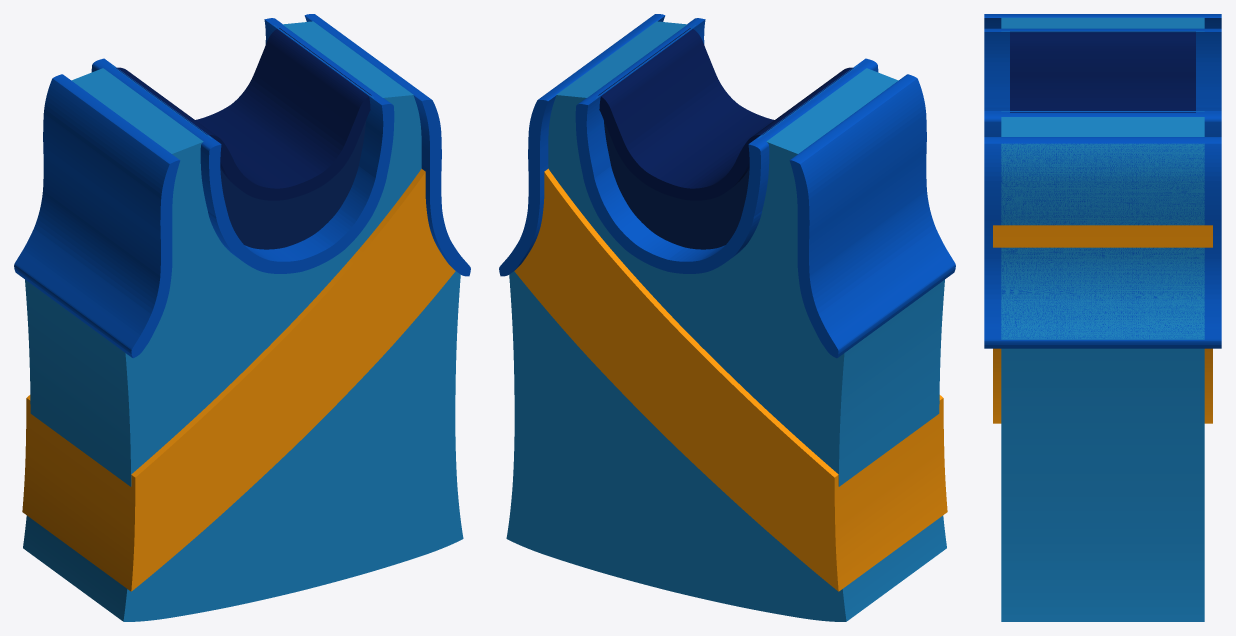
The picture shows the model from 3 angles, left to right: view 1: azimuth 30°, elevation 25°; view 2: azimuth 150°, elevation 25°; view 3: azimuth 270°, elevation 25°; orthographic projection.
Visible parts, largest first — view 1: U+1F3BD_layer02_obj00, U+1F3BD_layer03_obj00, U+1F3BD_layer04_obj02, U+1F3BD_layer01_obj00, U+1F3BD_layer04_obj00, U+1F3BD_layer00_obj00, U+1F3BD_layer04_obj01; view 2: U+1F3BD_layer02_obj00, U+1F3BD_layer03_obj00, U+1F3BD_layer04_obj02, U+1F3BD_layer01_obj00, U+1F3BD_layer04_obj00, U+1F3BD_layer00_obj00, U+1F3BD_layer04_obj01; view 3: U+1F3BD_layer02_obj00, U+1F3BD_layer04_obj01, U+1F3BD_layer01_obj00, U+1F3BD_layer04_obj00, U+1F3BD_layer03_obj00, U+1F3BD_layer04_obj02.
Boxes of the visible parts, x1,y1,x2,y2 form: U+1F3BD_layer02_obj00: [23, 21, 463, 621]; U+1F3BD_layer03_obj00: [22, 168, 455, 591]; U+1F3BD_layer04_obj02: [14, 74, 180, 358]; U+1F3BD_layer01_obj00: [116, 28, 371, 200]; U+1F3BD_layer04_obj00: [91, 18, 394, 273]; U+1F3BD_layer00_obj00: [220, 121, 365, 249]; U+1F3BD_layer04_obj01: [304, 14, 470, 276]; U+1F3BD_layer02_obj00: [506, 21, 946, 621]; U+1F3BD_layer03_obj00: [514, 168, 947, 591]; U+1F3BD_layer04_obj02: [789, 74, 955, 358]; U+1F3BD_layer01_obj00: [598, 28, 853, 200]; U+1F3BD_layer04_obj00: [575, 18, 878, 273]; U+1F3BD_layer00_obj00: [604, 121, 749, 249]; U+1F3BD_layer04_obj01: [499, 14, 665, 276]; U+1F3BD_layer02_obj00: [1001, 17, 1204, 621]; U+1F3BD_layer04_obj01: [984, 137, 1221, 348]; U+1F3BD_layer01_obj00: [1010, 31, 1195, 112]; U+1F3BD_layer04_obj00: [984, 28, 1221, 136]; U+1F3BD_layer03_obj00: [993, 225, 1212, 423]; U+1F3BD_layer04_obj02: [984, 14, 1221, 28].
Size of the model in its own units: 0.2345 by 0.3121 by 0.14.
